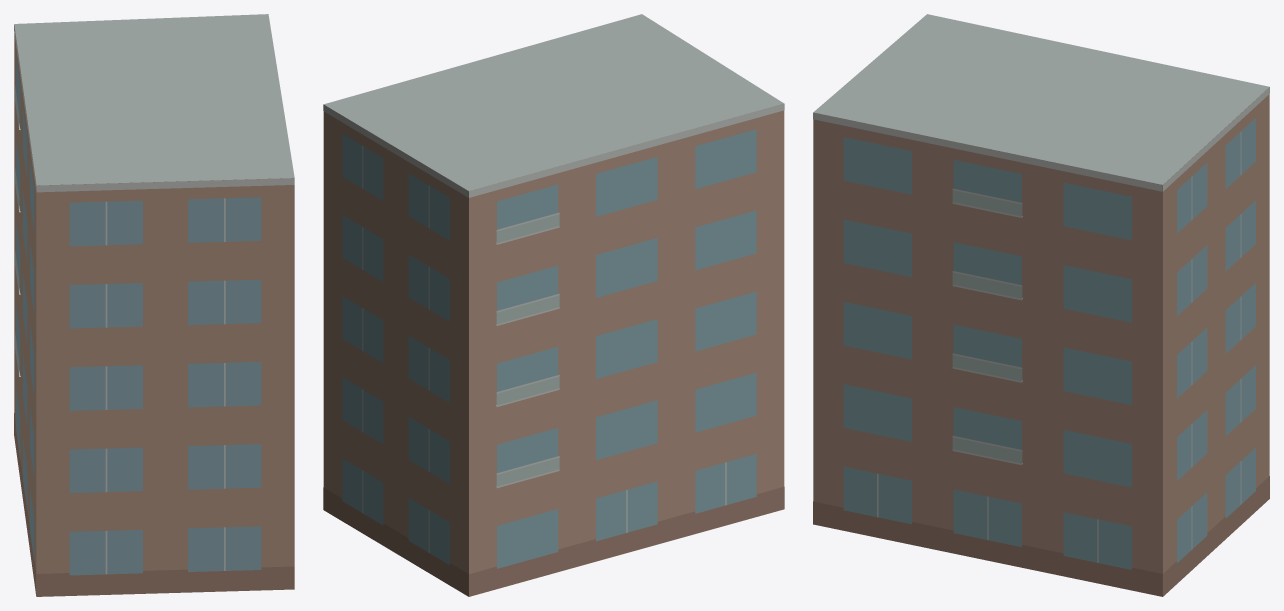
The model's file is survey-upis-32886218.glb.
3 views of the same model, side by side, from view 1: azimuth 30°, elevation 25°; view 2: azimuth 150°, elevation 25°; view 3: azimuth 270°, elevation 25° (orthographic).
Parts seen in each view (by area): view 1: survey-upis-32886218.tmp; view 2: survey-upis-32886218.tmp; view 3: survey-upis-32886218.tmp.
Boxes of the visible parts, left/top/right/bottom form: survey-upis-32886218.tmp: left=14, top=14, right=294, bottom=596; survey-upis-32886218.tmp: left=323, top=14, right=784, bottom=596; survey-upis-32886218.tmp: left=813, top=14, right=1269, bottom=596.
Size of the model in its own units: 13 by 14.6 by 14.68.
